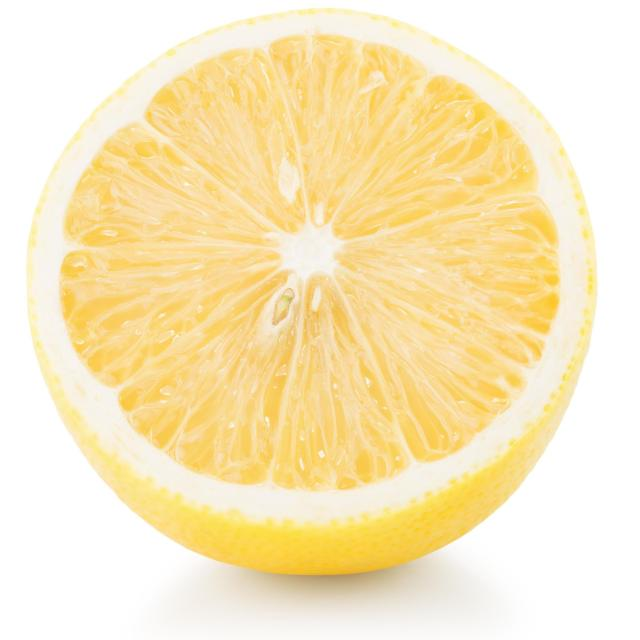lemon: (18, 1, 610, 598)
